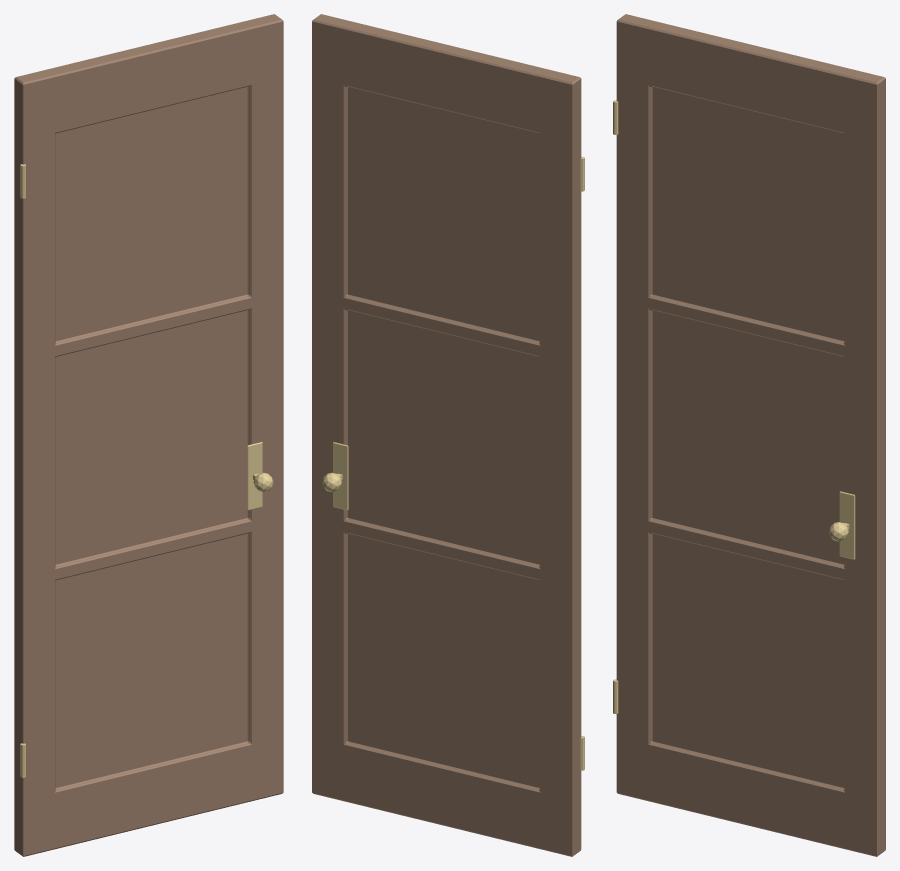
The model's file is door_leaf_back.glb.
3 renders of one model, left to right at view 1: azimuth 30°, elevation 25°; view 2: azimuth 150°, elevation 25°; view 3: azimuth 330°, elevation 25°, orthographic.
Visible parts, largest first — view 1: door_leaf_back_door, door_leaf_back_brass; view 2: door_leaf_back_door, door_leaf_back_brass; view 3: door_leaf_back_door, door_leaf_back_brass.
Part boxes in pixels (left/top/right/bottom): door_leaf_back_door: left=14, top=14, right=283, bottom=856; door_leaf_back_brass: left=20, top=164, right=273, bottom=777; door_leaf_back_door: left=312, top=14, right=581, bottom=856; door_leaf_back_brass: left=322, top=156, right=584, bottom=770; door_leaf_back_door: left=616, top=14, right=885, bottom=856; door_leaf_back_brass: left=613, top=100, right=855, bottom=714.
Bounding box in the file's own units: 0.848 × 2.38 × 0.206.
